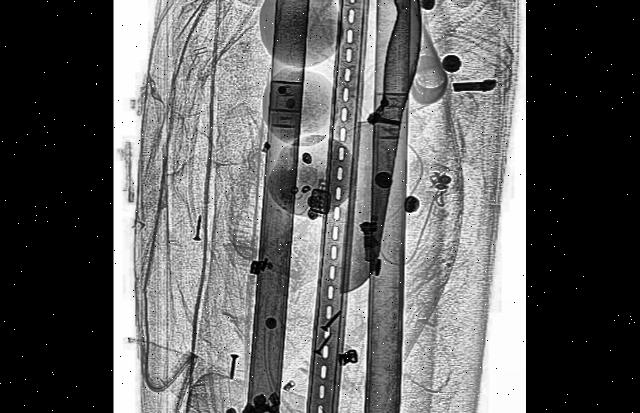Knife: (329, 0, 432, 310)
